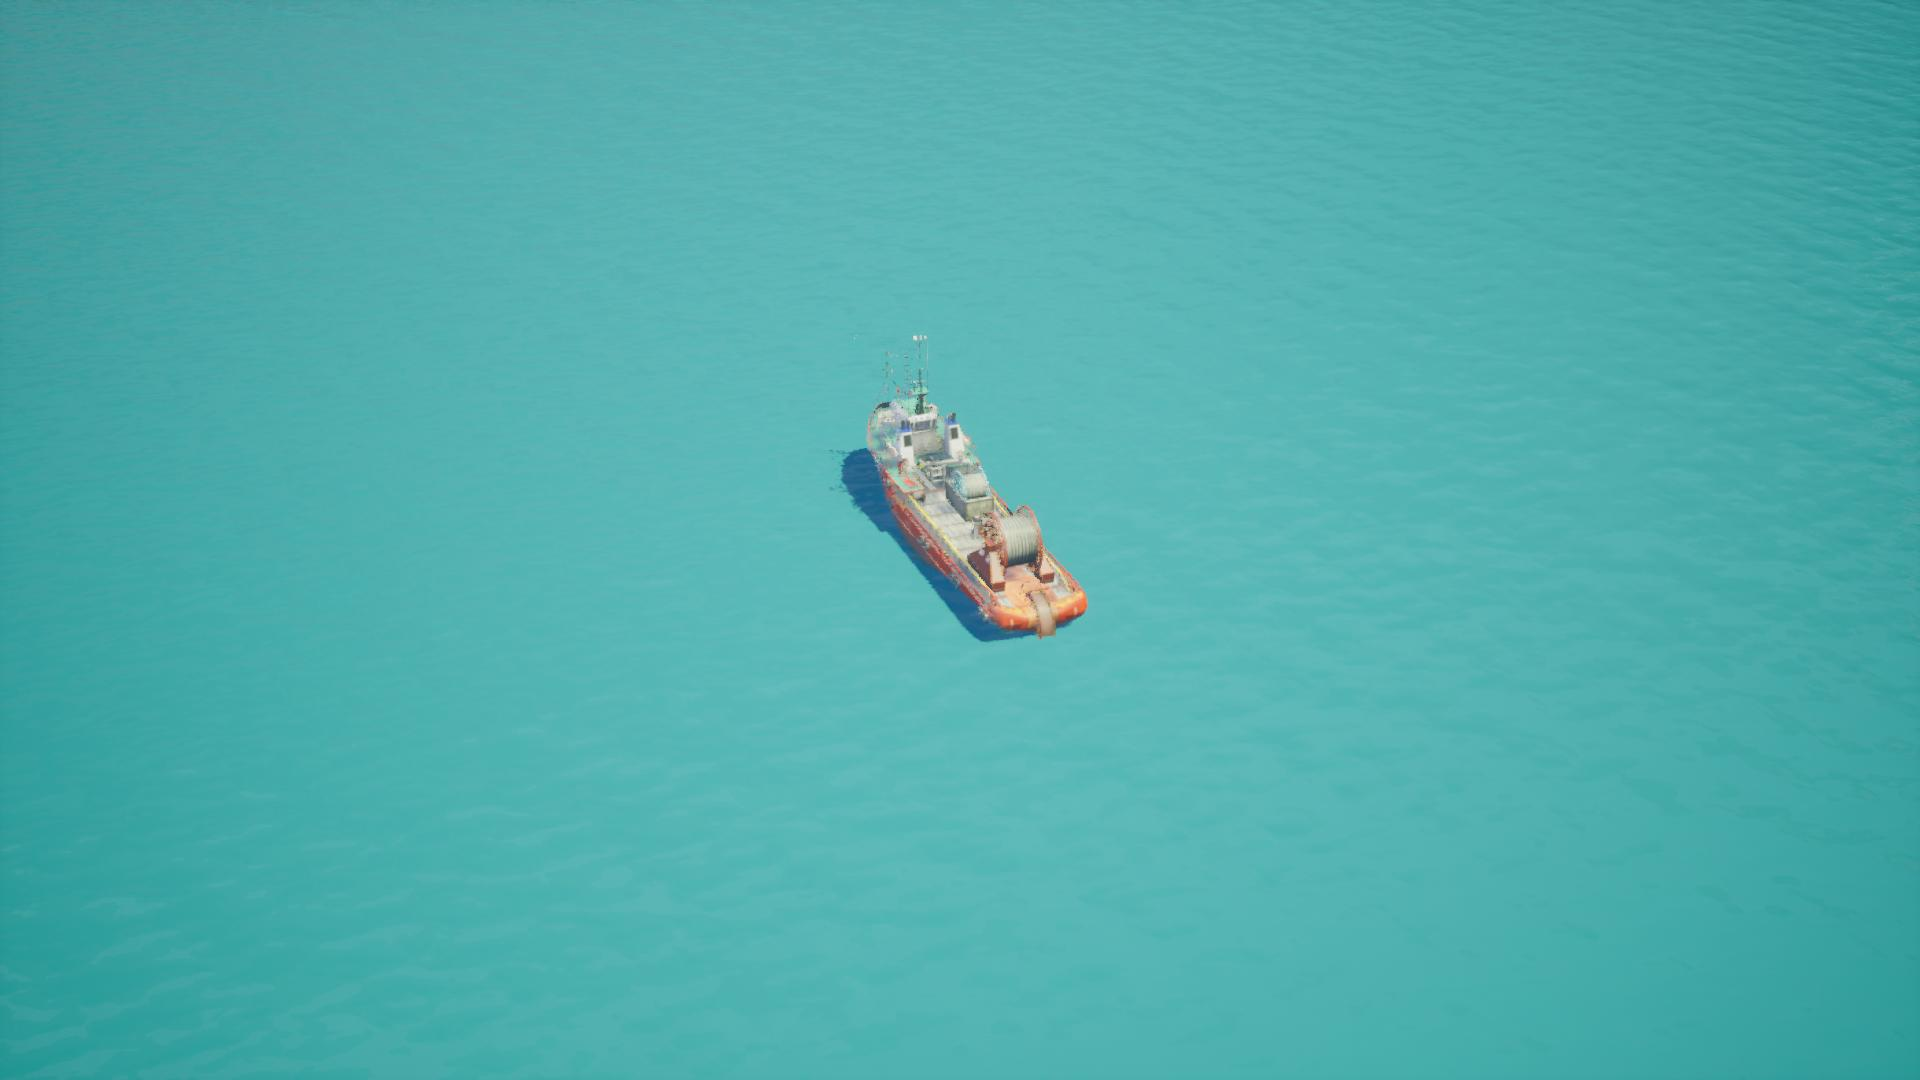Tug Boat: (841, 349, 1064, 645)
